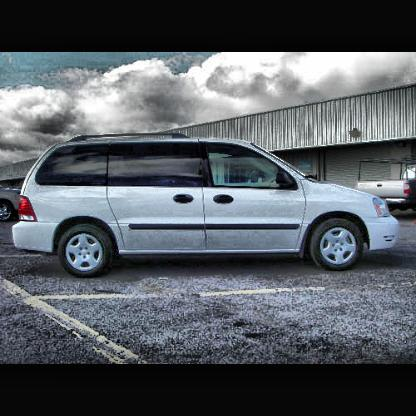Ford Freestar Minivan 2007: (14, 133, 402, 283)
